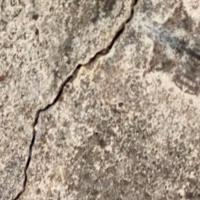crack: (4, 0, 140, 199)
